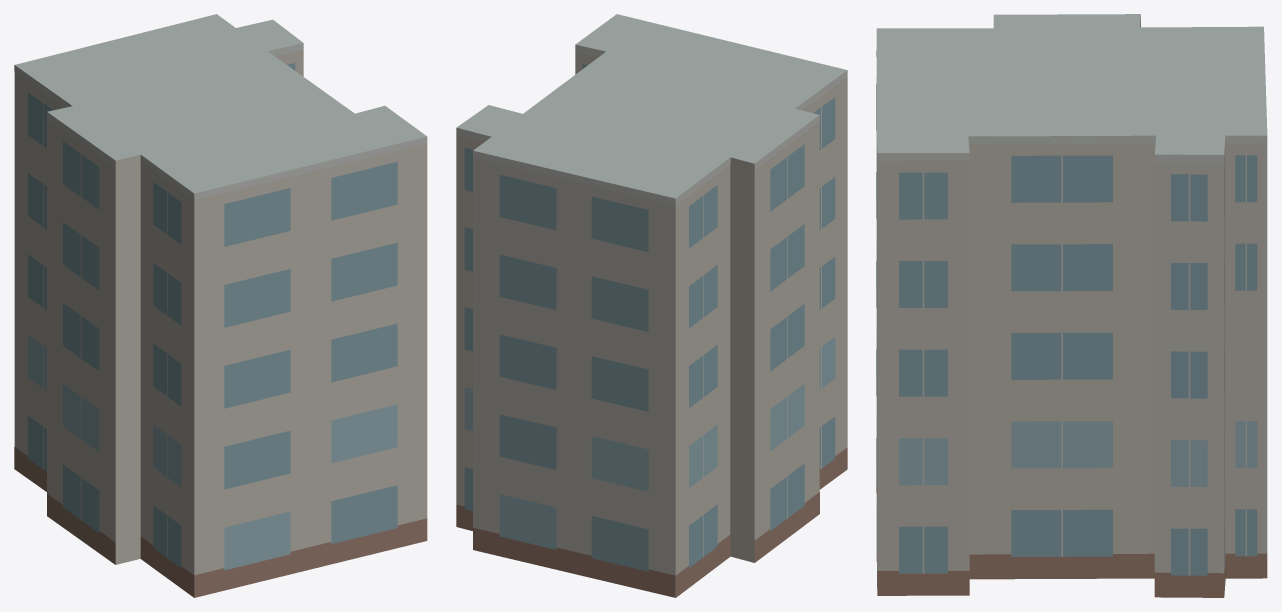
The model's file is survey-upis-32738947.glb.
The picture shows the model from 3 angles, left to right: view 1: azimuth 30°, elevation 25°; view 2: azimuth 150°, elevation 25°; view 3: azimuth 270°, elevation 25°; orthographic projection. The views are drawn at different scales.
Visible parts, largest first — view 1: survey-upis-32738947.tmp; view 2: survey-upis-32738947.tmp; view 3: survey-upis-32738947.tmp.
Part boxes in pixels (x1=…): survey-upis-32738947.tmp: x1=14, y1=14, x2=427, y2=597; survey-upis-32738947.tmp: x1=456, y1=14, x2=847, y2=597; survey-upis-32738947.tmp: x1=876, y1=14, x2=1267, y2=597.
Bounding box in the file's own units: 9.78 × 14.3 × 11.45.
